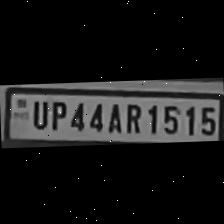1: (141, 100, 158, 133), (180, 101, 196, 134)
4: (65, 97, 85, 130), (86, 97, 104, 130)
5: (158, 100, 180, 134), (196, 100, 218, 134)
A: (104, 98, 122, 132)
P: (46, 95, 66, 129)
R: (120, 98, 142, 132)
U: (27, 96, 47, 128)
